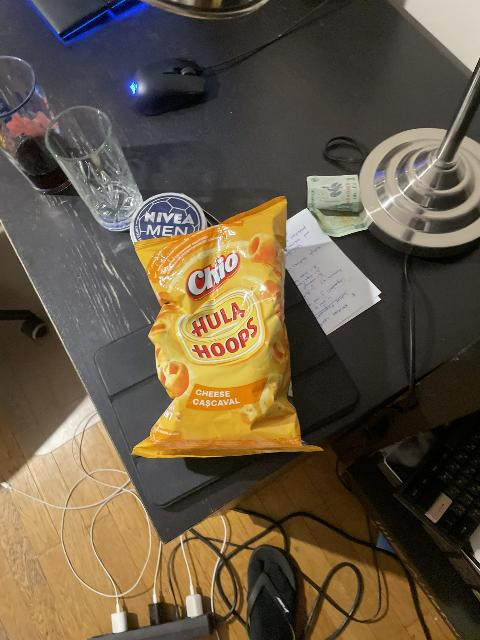Chio Hula Hoops Cheese 70g: (129, 195, 324, 459)
